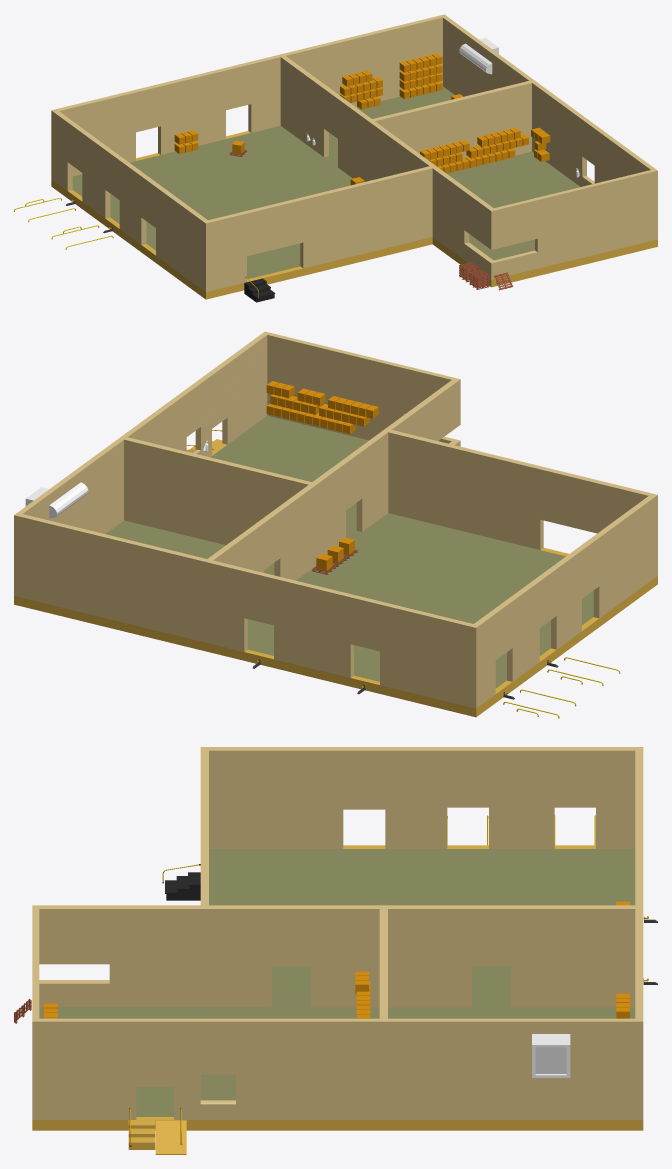
File: warehouse.glb
The picture shows the model from 3 angles, top to bottom: view 1: azimuth 30°, elevation 25°; view 2: azimuth 150°, elevation 25°; view 3: azimuth 270°, elevation 25°; orthographic projection. The views are drawn at different scales.
Parts seen in each view (by area): view 1: Building_structure, boxes08.012, boxes08.007, Pellet.004, aircon_01, boxes08.009, Stairs, boxes08, boxes08.008, boxes02, boxes05; view 2: Building_structure, boxes08.001, aircon_01, boxes08.005, boxes12; view 3: Building_structure, Stairs.001, aircon_01, Stairs.
Part boxes in pixels (x1,y1,x2,y2): Building_structure: (51,14,657,299); boxes08.012: (437,148,515,173); boxes08.007: (466,134,528,158); Pellet.004: (459,262,489,289); aircon_01: (459,38,498,74); boxes08.009: (420,140,469,160); Stairs: (244,278,275,302); boxes08: (399,53,442,72); boxes08.008: (477,127,520,147); boxes02: (340,77,382,96); boxes05: (399,81,442,99); Building_structure: (14,331,657,717); boxes08.001: (266,403,355,433); aircon_01: (25,482,88,518); boxes08.005: (328,396,378,418); boxes12: (316,537,354,570); Building_structure: (32,747,643,1130); Stairs.001: (128,1120,186,1154); aircon_01: (532,1034,570,1077); Stairs: (165,872,200,900).
Size of the model in its own units: 20.66 by 3.28 by 16.8.
